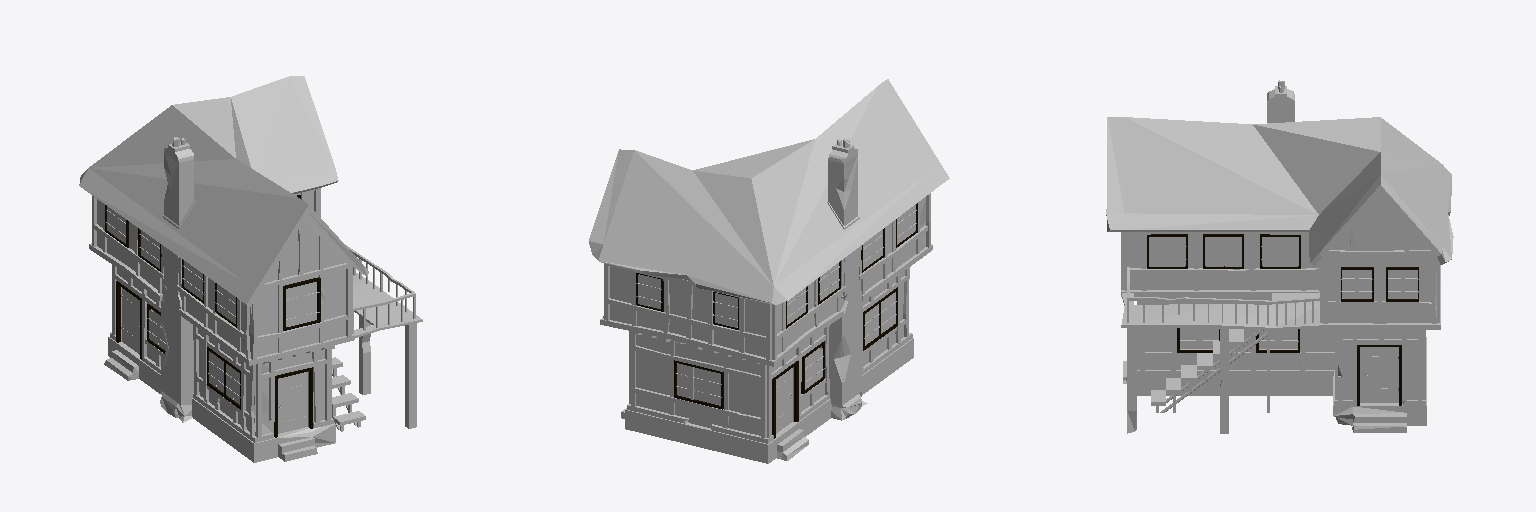
The model's file is Casa3.obj.
3 views of the same model, side by side, from view 1: azimuth 30°, elevation 25°; view 2: azimuth 150°, elevation 25°; view 3: azimuth 270°, elevation 25° (orthographic).
Parts seen in each view (by area): view 1: Tudor_House_Main, Chimney, Window_Shutters, Window_Door_Framing, Door_Wood, Balcony_Stairs; view 2: Tudor_House_Main, Chimney, Window_Shutters, Window_Door_Framing, Door_Wood; view 3: Tudor_House_Main, Window_Shutters, Balcony_Stairs, Window_Door_Framing, Door_Wood, Chimney.
Boxes of the visible parts, <box> form: Tudor_House_Main: <box>79,76,422,462</box>; Chimney: <box>160,137,195,422</box>; Window_Shutters: <box>106,206,319,404</box>; Window_Door_Framing: <box>105,195,320,437</box>; Door_Wood: <box>121,288,307,433</box>; Balcony_Stairs: <box>332,345,365,431</box>; Tudor_House_Main: <box>589,79,949,463</box>; Chimney: <box>827,138,867,420</box>; Window_Shutters: <box>636,204,916,405</box>; Window_Door_Framing: <box>636,203,917,438</box>; Door_Wood: <box>776,368,792,433</box>; Tudor_House_Main: <box>1106,117,1453,433</box>; Window_Shutters: <box>1149,237,1418,348</box>; Balcony_Stairs: <box>1151,293,1274,412</box>; Window_Door_Framing: <box>1147,234,1418,405</box>; Door_Wood: <box>1361,347,1398,402</box>; Chimney: <box>1267,80,1294,122</box>.
Size of the model in its own units: 3.18 by 4.19 by 4.84.